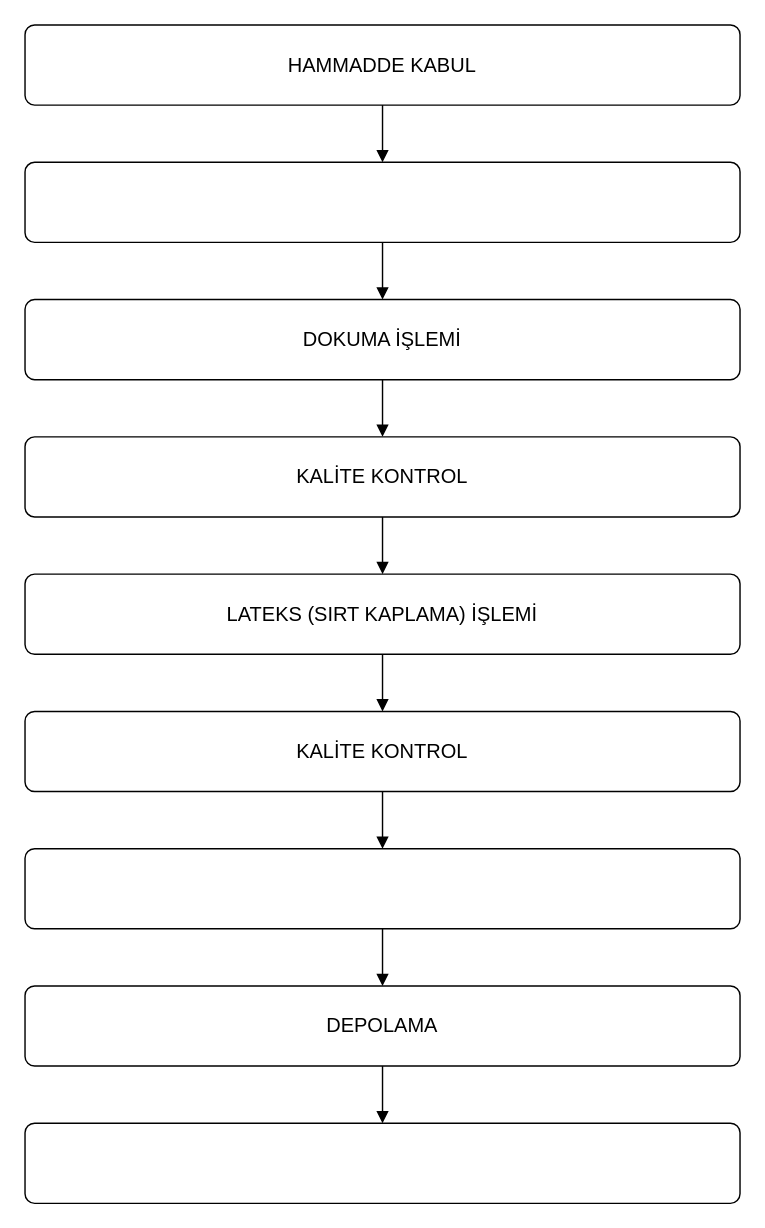
Image size: 765x1228. Some labels were removed from this diagram. The shapes that lost their labels are listed below. From the top down, each one's box as (x1, y1, x2, y2) in pixels, then its label:
(24, 161, 740, 242): HAMMADDE DEPOLAMA
(24, 847, 740, 929): SARIM VE PAKETLEME
(24, 1122, 740, 1203): SEVKİYAT
